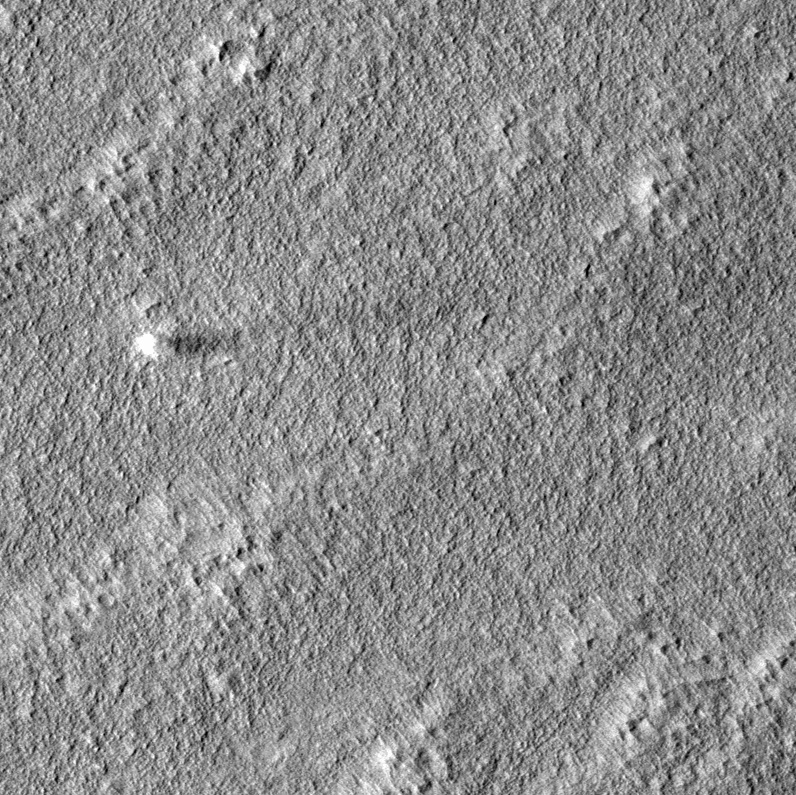dust_devil: (130, 326, 242, 363)
